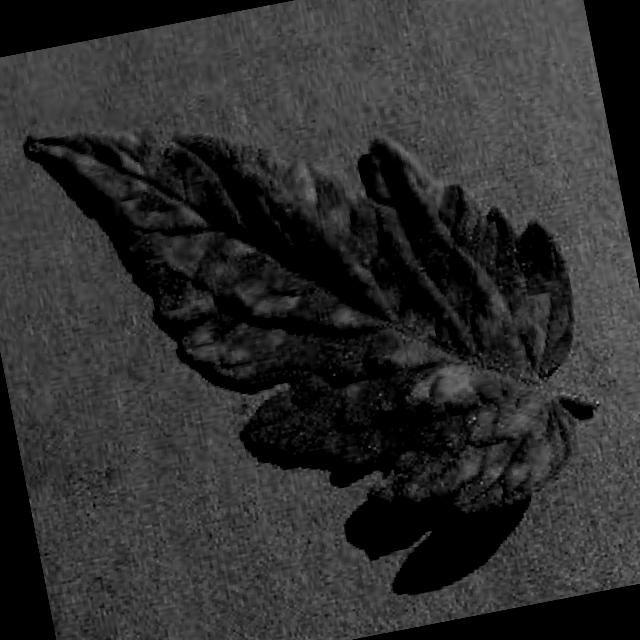leaf mold: (35, 126, 596, 517)
